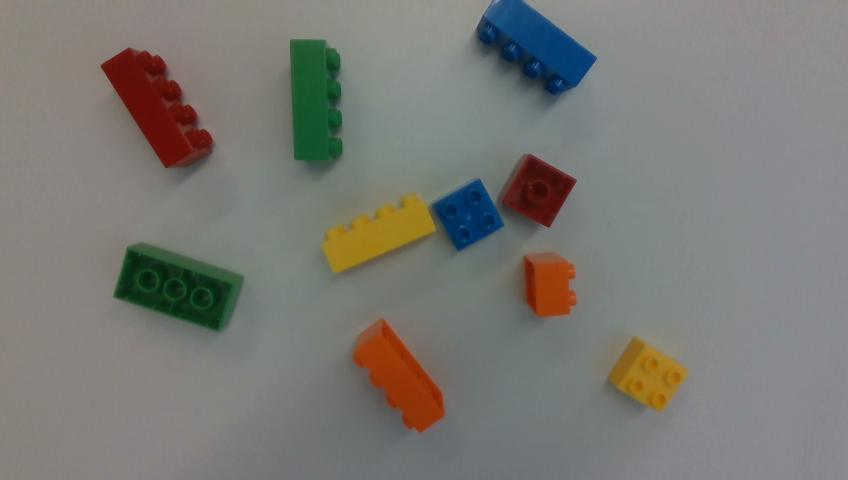2x2_blue: (433, 178, 503, 250)
2x2_orange: (525, 253, 576, 316)
2x2_red: (500, 154, 576, 227)
2x2_yellow: (608, 337, 688, 411)
4x2_blue: (478, 0, 596, 94)
4x2_green: (115, 244, 241, 330), (290, 39, 342, 161)
4x2_orange: (354, 319, 444, 431)
4x2_red: (101, 48, 213, 166)
4x2_yellow: (322, 193, 436, 273)
